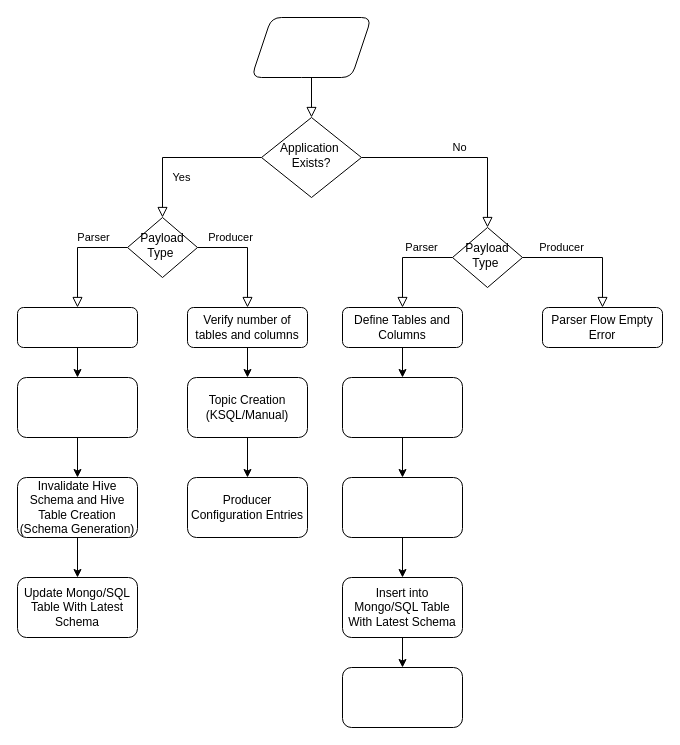
Image size: 680x745. Some labels were removed from this diagram. The shapes that lost their labels are listed below. From the top down, each one's centre as x and y in pixels, then its label:
the point at 311,47: Ingest Schema Payload
the point at 77,327: Calculate tables and columns
the point at 77,407: Update Dictionary and Parser- Consumer configs
the point at 402,407: Insert into data dictionary and Parser Consumer Configs
the point at 402,507: Hive Table Creation (Schema Generation)
the point at 402,697: Autosys JIL Creation and Execution
